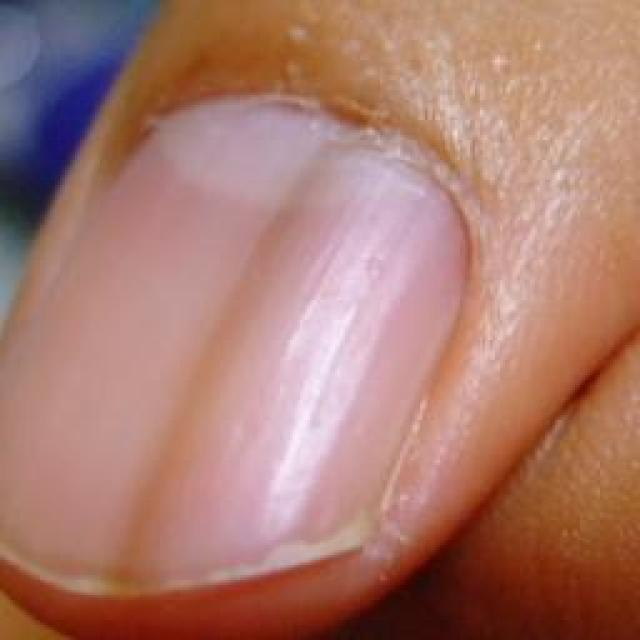Nail: (1, 95, 469, 602)
